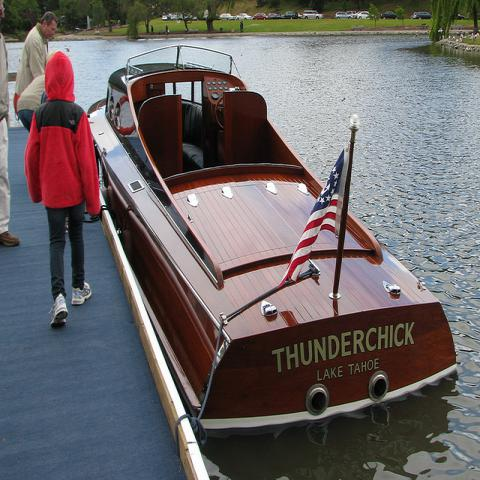car: (344, 6, 462, 20), (303, 12, 324, 20), (335, 11, 353, 20), (253, 12, 270, 21), (412, 12, 432, 19), (219, 13, 236, 21), (381, 12, 397, 20), (236, 12, 251, 20), (284, 12, 300, 19), (357, 12, 370, 19), (270, 13, 284, 19), (299, 13, 308, 19), (161, 14, 169, 20), (192, 17, 198, 21)
